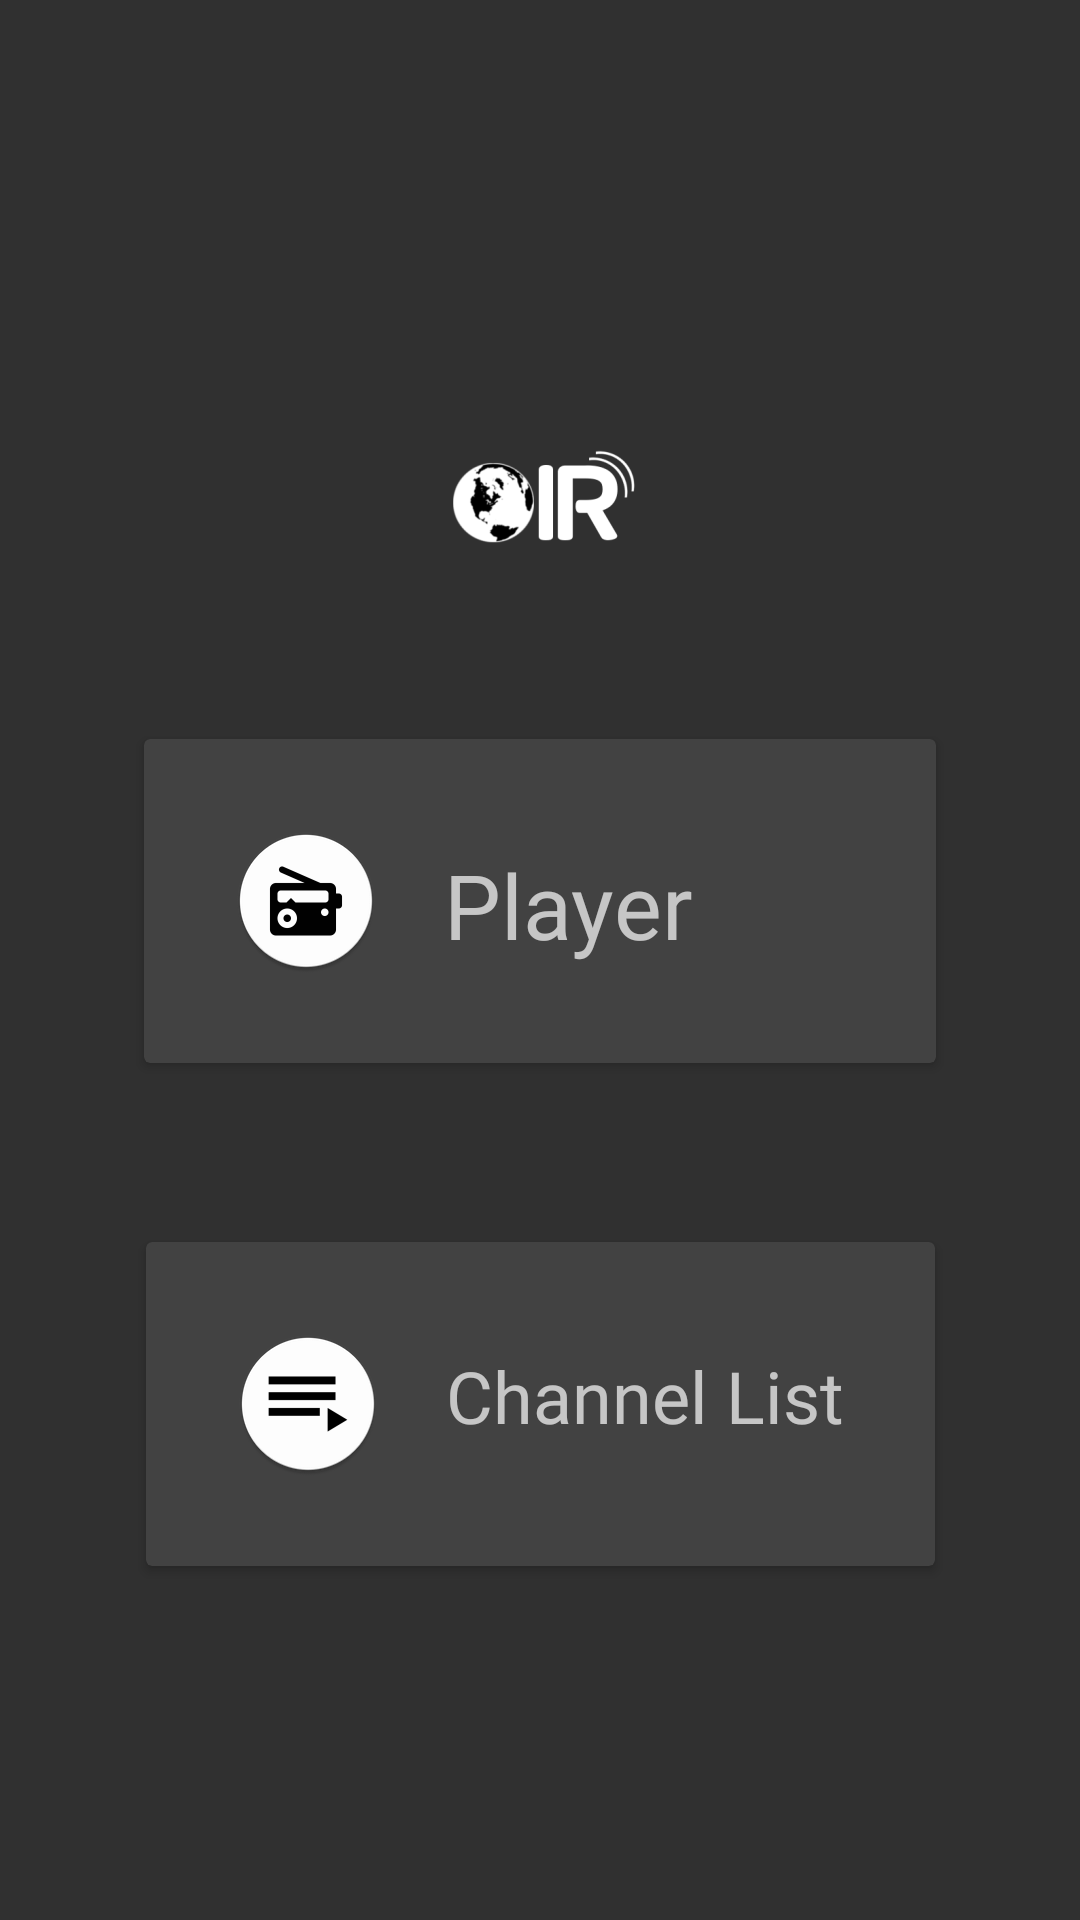

Icon bounding boxes for this 1080 × 1920 phone screenshot, format (x1, y1, x2, y2):
radio: (240, 834, 372, 967)
